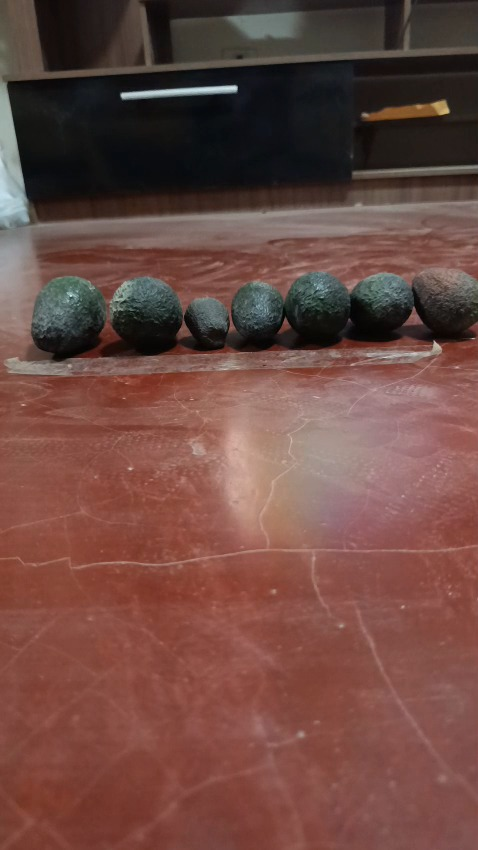Primera: (29, 275, 105, 354), (108, 276, 184, 348), (283, 270, 351, 341)
Segunda: (410, 267, 476, 337), (348, 271, 416, 337), (230, 280, 286, 343)
Tercera: (184, 296, 229, 349)
